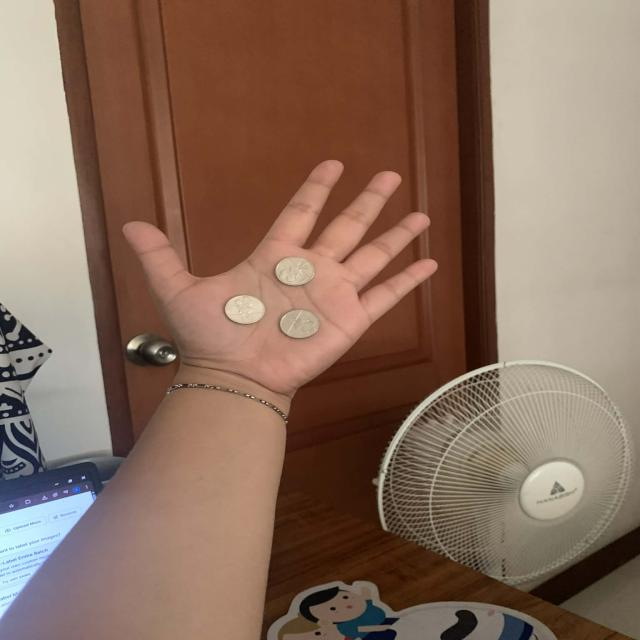25 cents: (222, 292, 268, 326), (278, 307, 322, 342), (273, 254, 318, 286)
